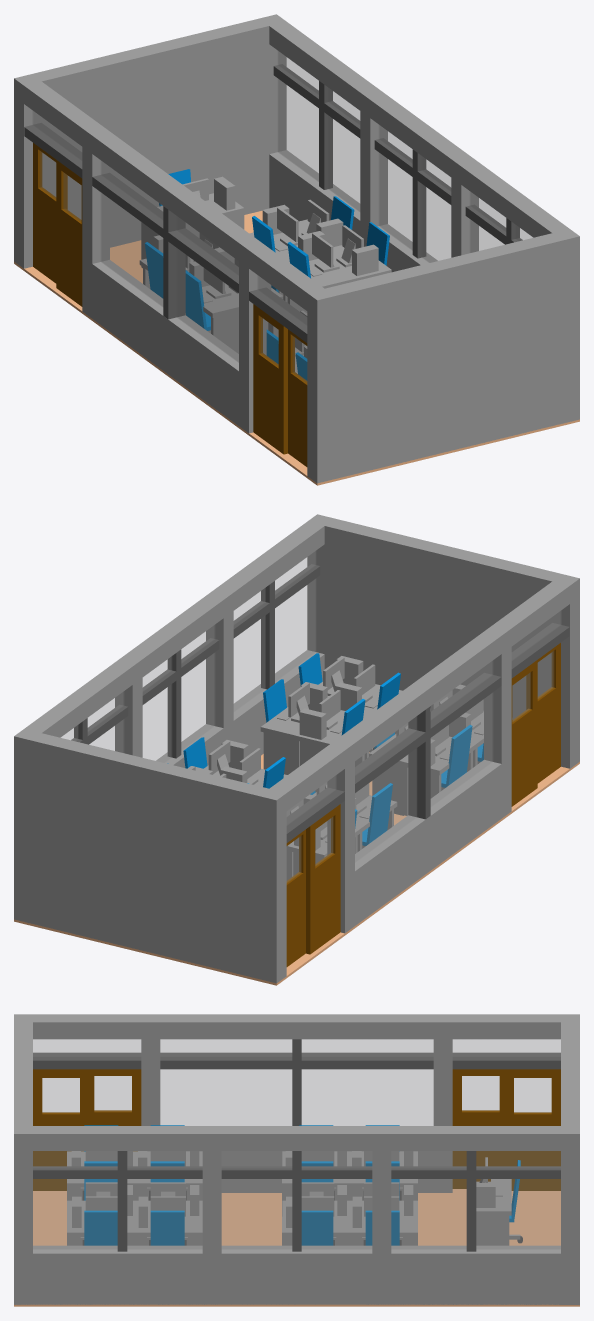
File: teacher’s room.fbx
3 views of the same model, one above another, from view 1: azimuth 30°, elevation 25°; view 2: azimuth 150°, elevation 25°; view 3: azimuth 270°, elevation 25° (orthographic). The views are drawn at different scales.
Parts seen in each view (by area): view 1: pCube3 (×6), pCube2 (×2), pCube6, pCube5 (×4), pCube13, pCube14, pCube19, pCube4 (×3), pCube17, pCube1 (×4), pCube8, pCube20 (+10 smaller); view 2: pCube2 (×3), pCube3 (×7), pCube6, pCube5 (×4), pCube13, pCube14, pCube19, pCube17, pCube4 (×2), pCube1 (×2), pCube8, pCube20 (+9 smaller); view 3: pCube6, pCube4 (×8), pCube5 (×5), pCube19, pCube1 (×5), pCube14, pCube3 (×5), pCube17, pCube20, pCube2 (×4), pCube8, pasted__pCube6 (×4) (+11 smaller).
Boxes of the visible parts, <box> form: pCube3 (×6): <box>34,185,579,483</box>; pCube2 (×2): <box>14,14,287,454</box>; pCube6: <box>278,51,532,262</box>; pCube5 (×4): <box>40,14,579,365</box>; pCube13: <box>82,257,253,433</box>; pCube14: <box>14,75,334,318</box>; pCube19: <box>101,193,238,362</box>; pCube4 (×3): <box>202,150,579,423</box>; pCube17: <box>24,123,307,342</box>; pCube1 (×4): <box>14,143,579,485</box>; pCube8: <box>273,64,522,244</box>; pCube20: <box>33,111,306,324</box>; pCube2 (×3): <box>14,643,560,983</box>; pCube3 (×7): <box>263,514,579,966</box>; pCube6: <box>61,551,315,762</box>; pCube5 (×4): <box>14,514,553,865</box>; pCube13: <box>340,757,511,933</box>; pCube14: <box>259,574,579,818</box>; pCube19: <box>355,693,492,862</box>; pCube17: <box>286,623,569,842</box>; pCube4 (×2): <box>14,650,324,922</box>; pCube1 (×2): <box>14,752,579,985</box>; pCube8: <box>71,564,320,744</box>; pCube20: <box>287,611,560,824</box>; pCube6: <box>33,1151,560,1249</box>; pCube4 (×8): <box>14,1069,579,1304</box>; pCube5 (×5): <box>14,1076,579,1150</box>; pCube19: <box>160,1069,433,1125</box>; pCube1 (×5): <box>14,1069,579,1306</box>; pCube14: <box>14,1014,579,1039</box>; pCube3 (×5): <box>14,1014,558,1304</box>; pCube17: <box>33,1052,560,1069</box>; pCube20: <box>33,1039,560,1056</box>; pCube2 (×4): <box>33,1014,579,1304</box>; pCube8: <box>33,1166,560,1178</box>; pasted__pCube6 (×4): <box>84,1210,399,1245</box>.
Bounding box in the file's own units: 30 × 20.22 × 60.
